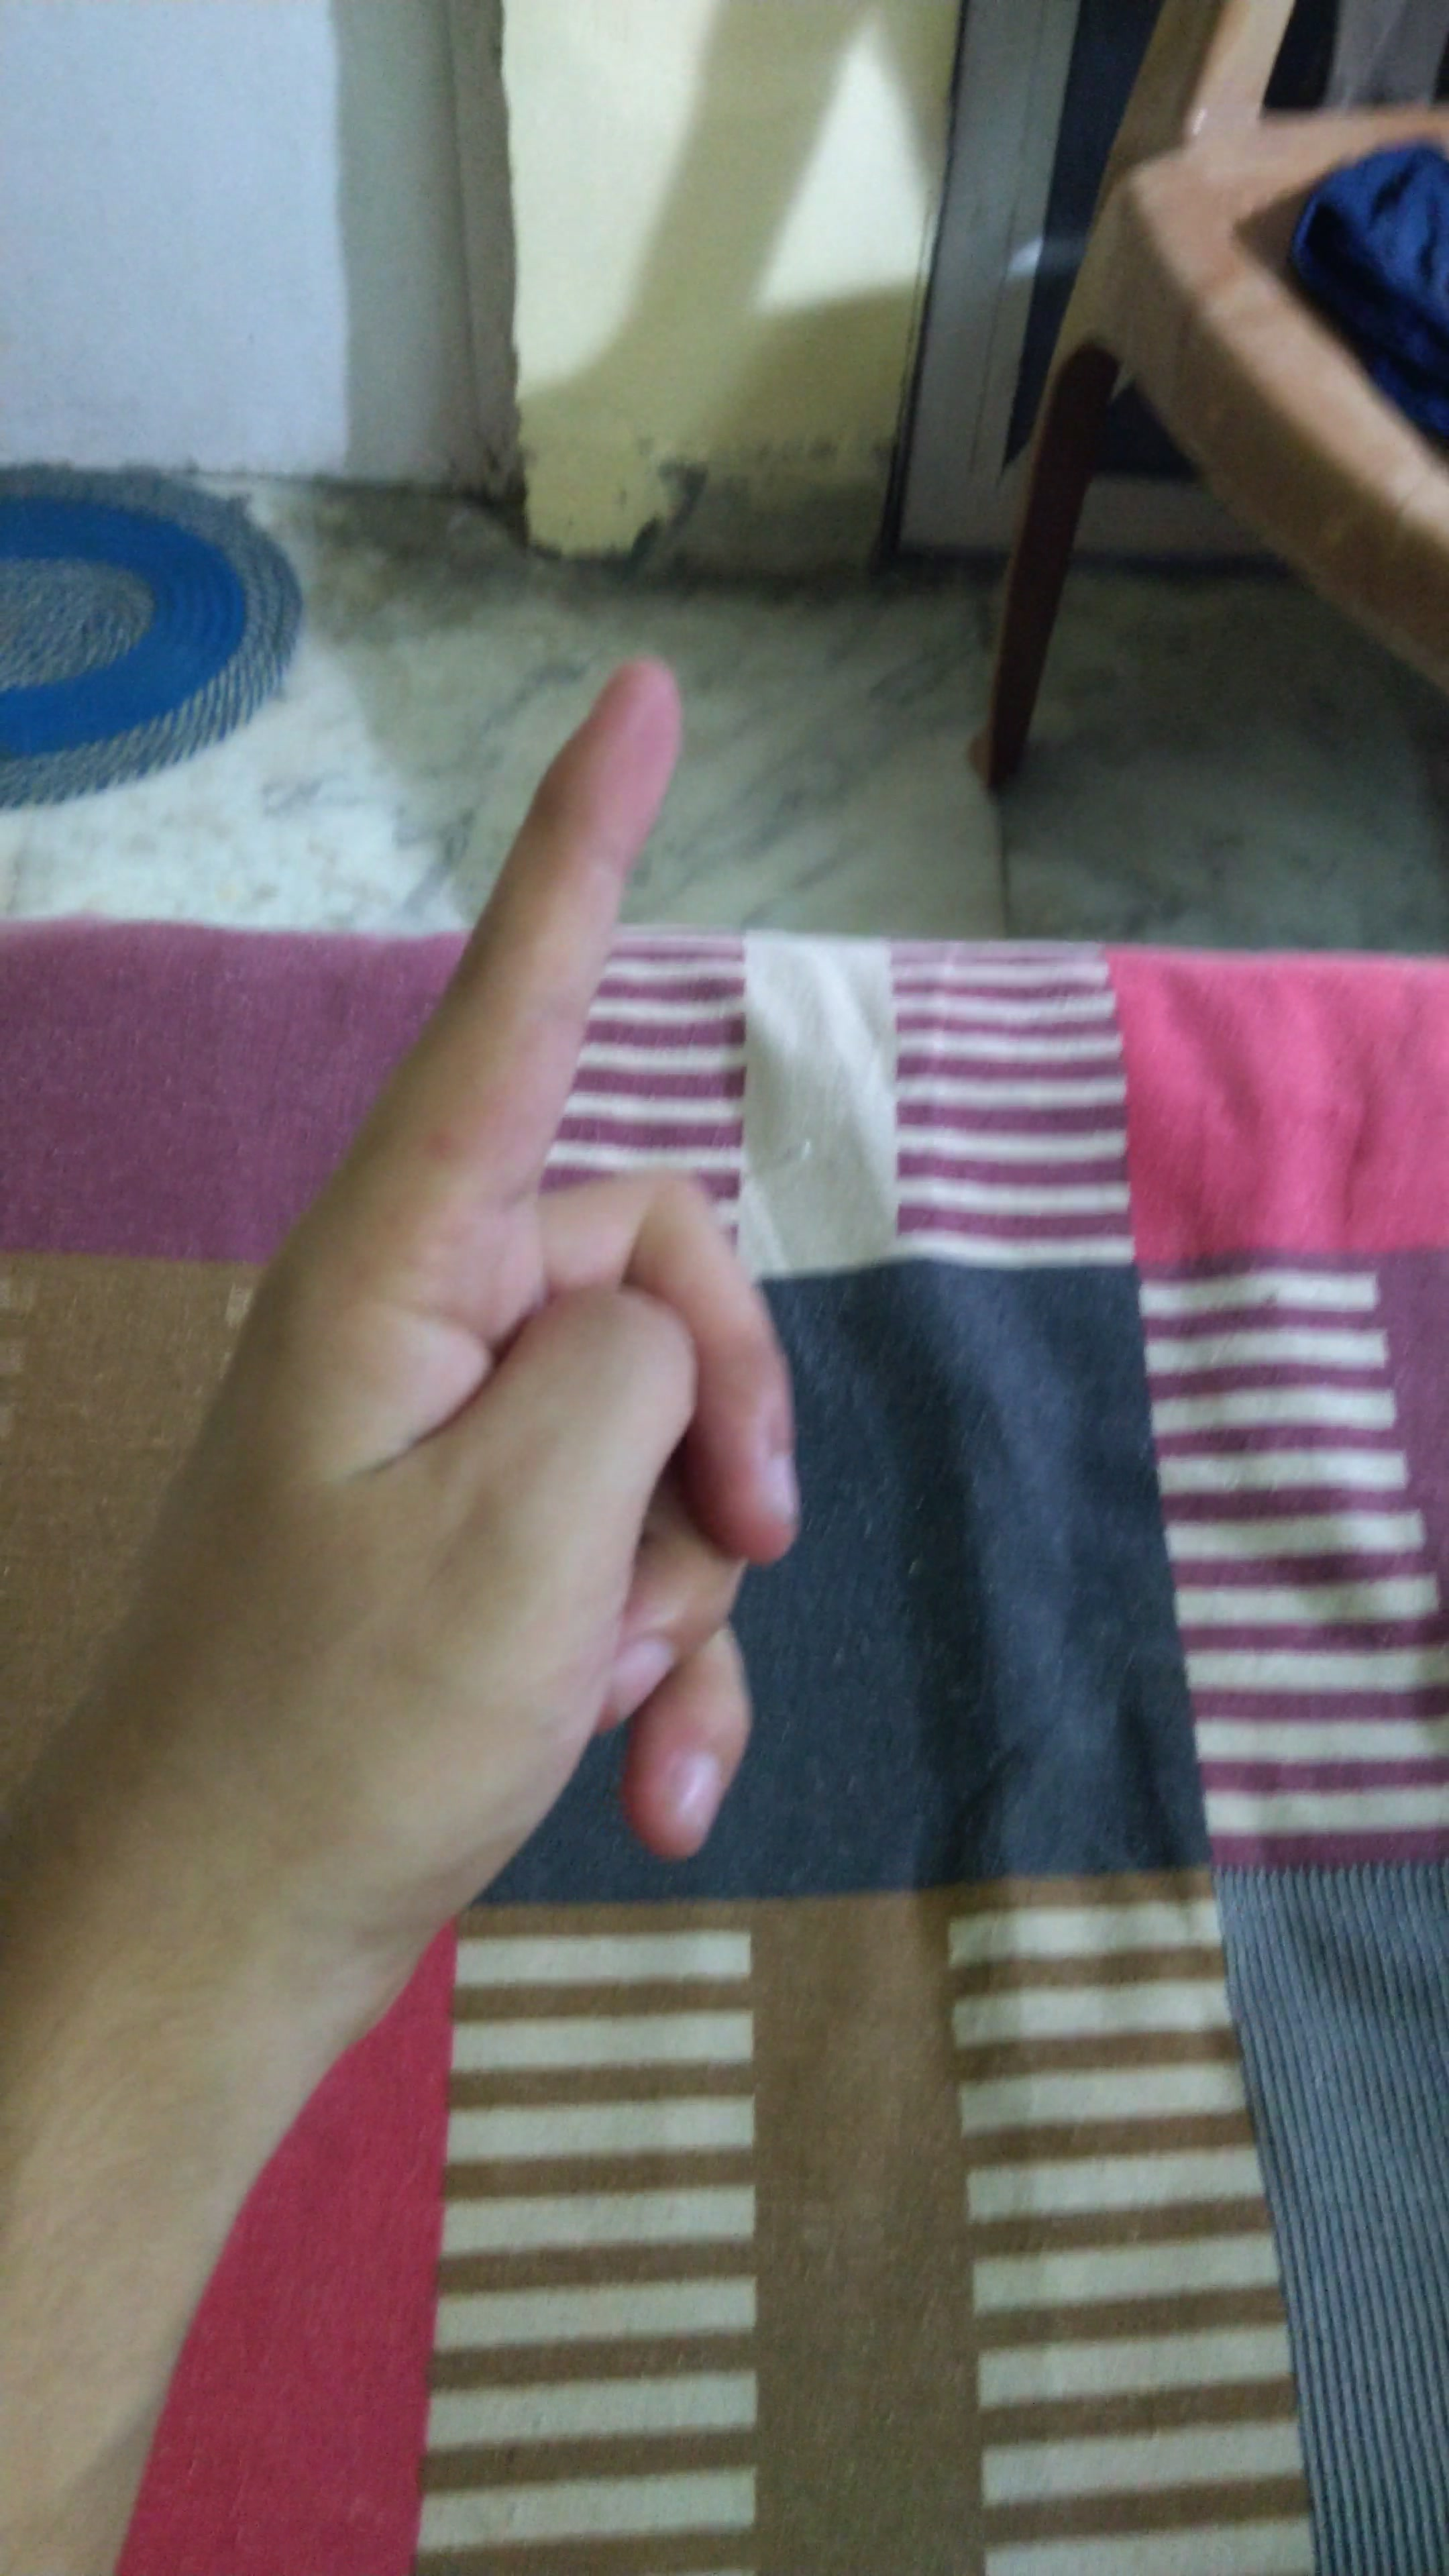hand: (152, 609, 890, 2020)
